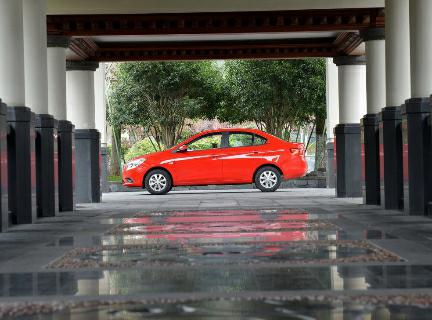雪佛兰-赛欧: (123, 126, 310, 197)
